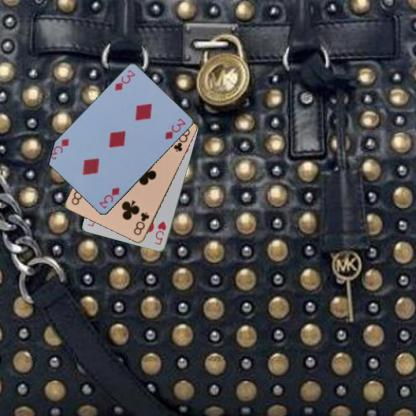3d: (96, 184, 121, 210), (112, 66, 137, 92)
5h: (152, 219, 168, 246)
8c: (131, 209, 150, 236)
